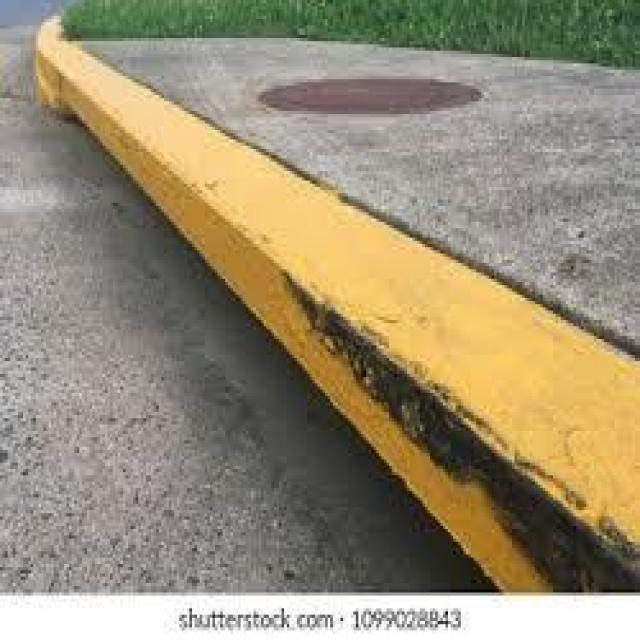curb: (55, 55, 633, 587), (30, 35, 74, 102)
